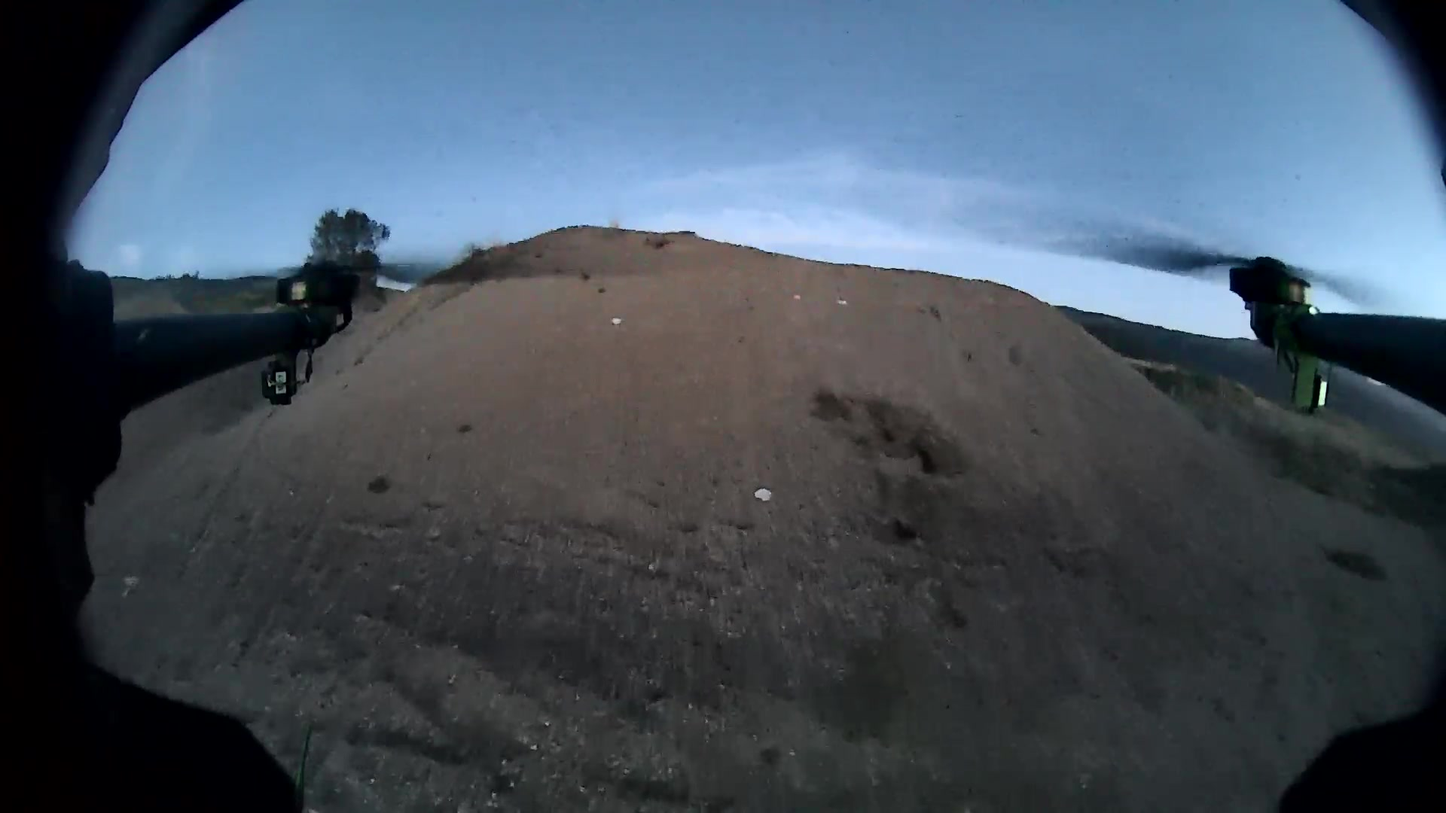Target: (755, 488, 773, 501)
